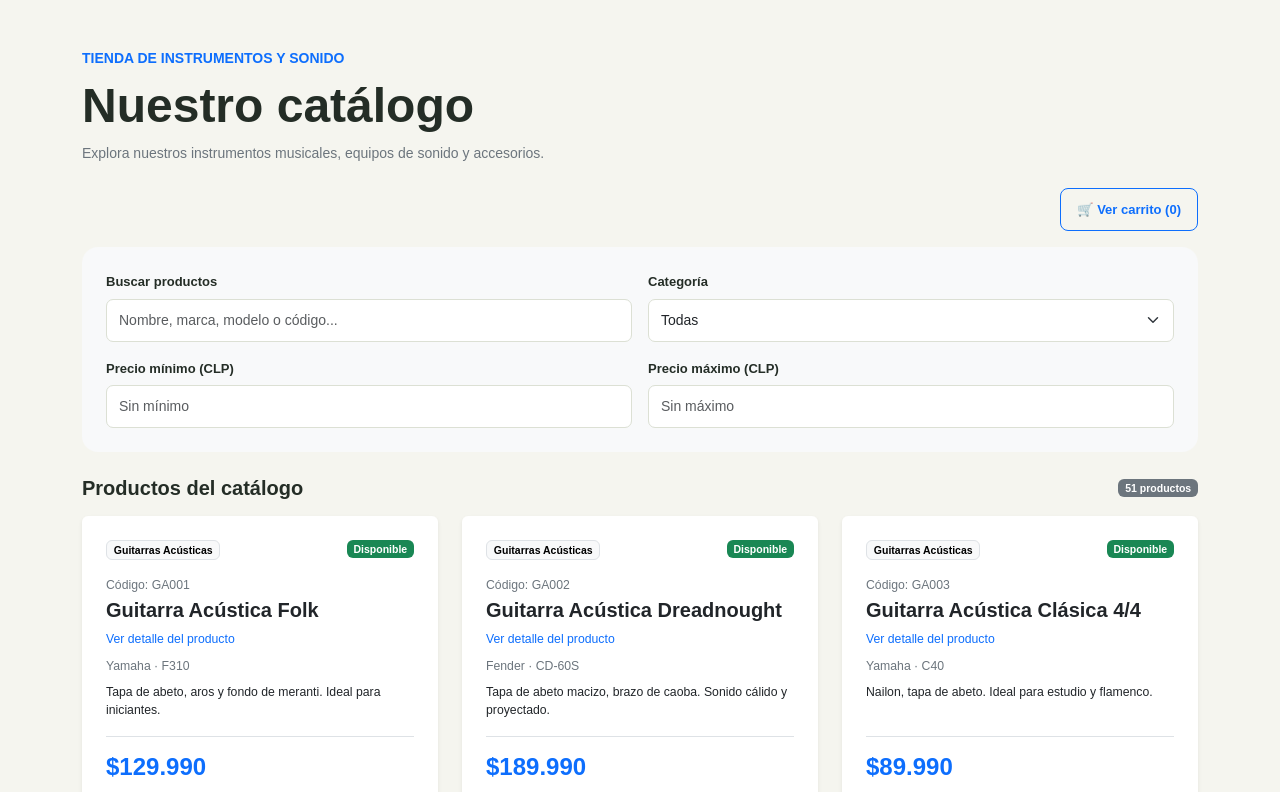
Test: Entrada integrable del módulo cliente › navega al detalle sin salir del prefijo /cliente
This screenshot has width=1280, height=792.
Click the link "Ver detalle del producto" below "Guitarra Acústica Folk": {"x": 170, "y": 639} x1=106 y1=632 x2=235 y2=646
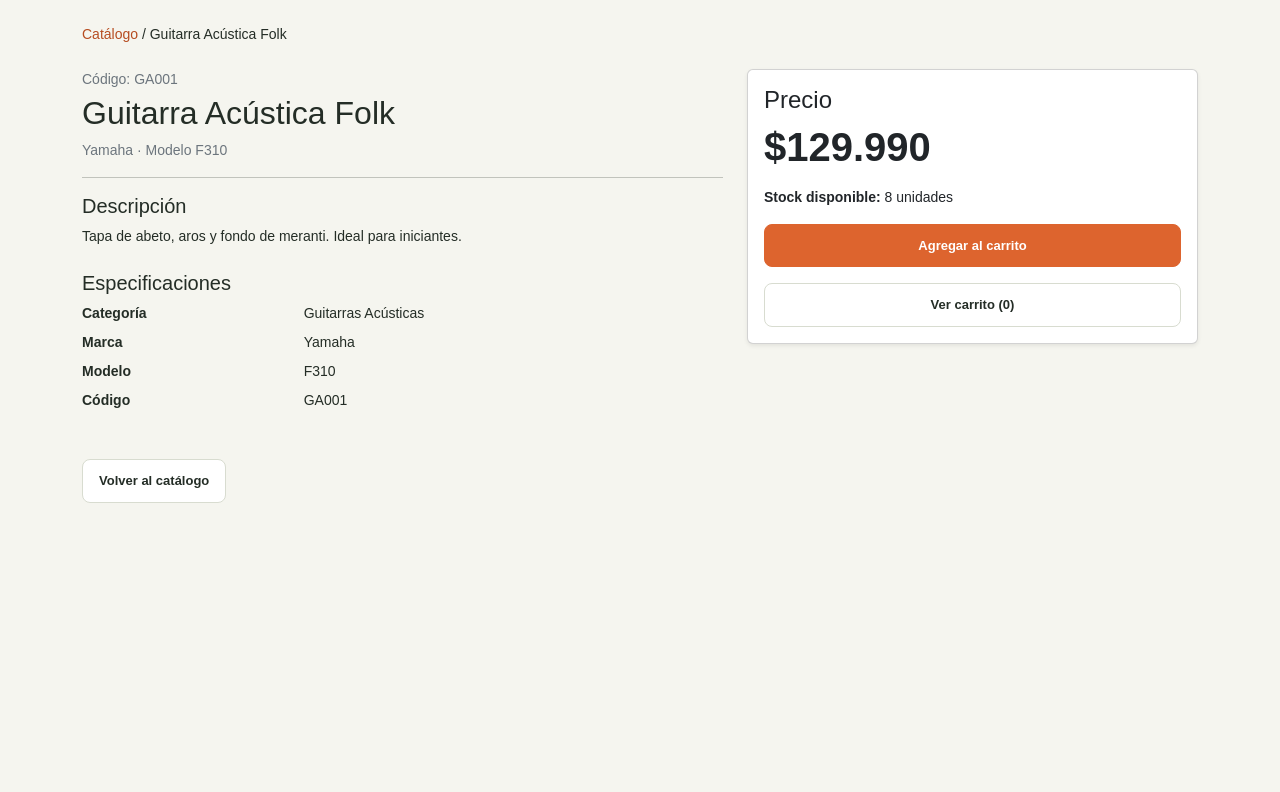
Expected: the text "Código: GA001" is shown, x1=82 y1=71 x2=178 y2=87
Now the heading "Guitarra Acústica Folk" is shown, box x1=82 y1=95 x2=395 y2=131
